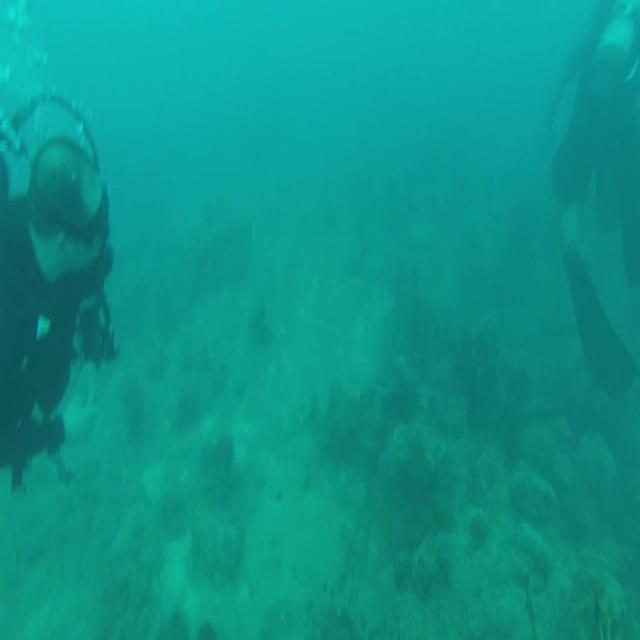human: (0, 91, 119, 493), (543, 1, 639, 288)
